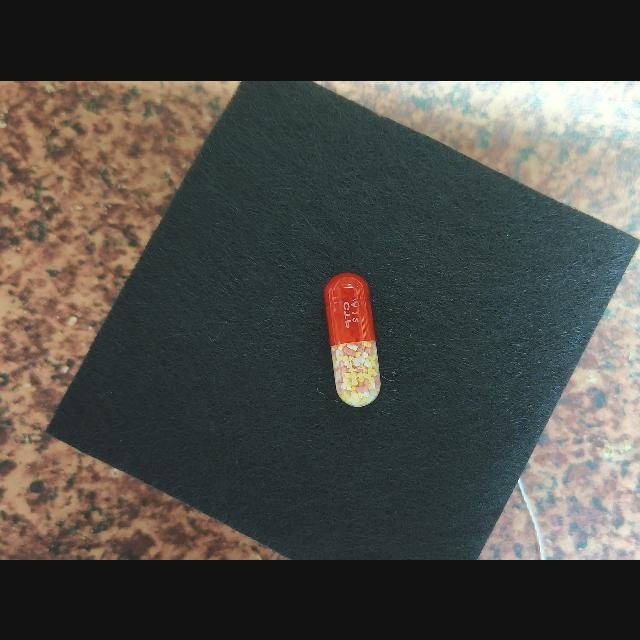Intact Capsule: (324, 272, 380, 406)
